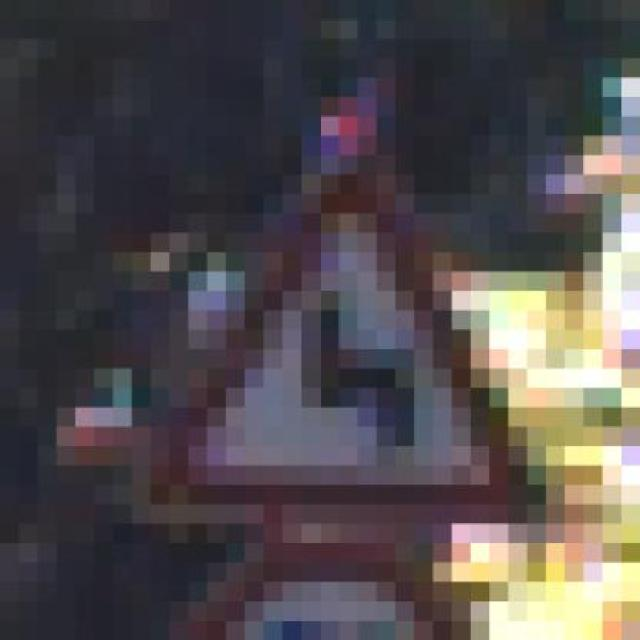Left Zig Zag Traffic: (132, 116, 566, 544)
